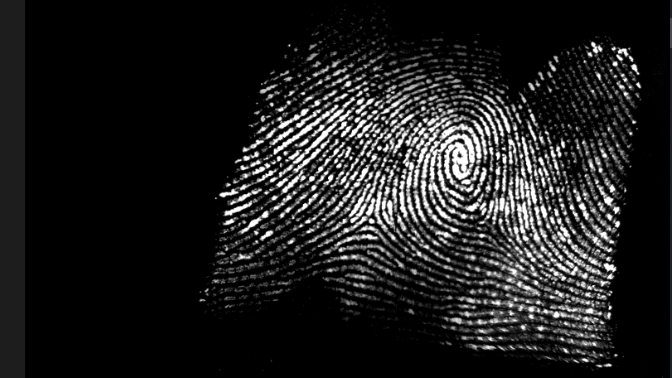deltas: (349, 195, 397, 251), (465, 205, 509, 246)
nucleo: (426, 119, 487, 195)
